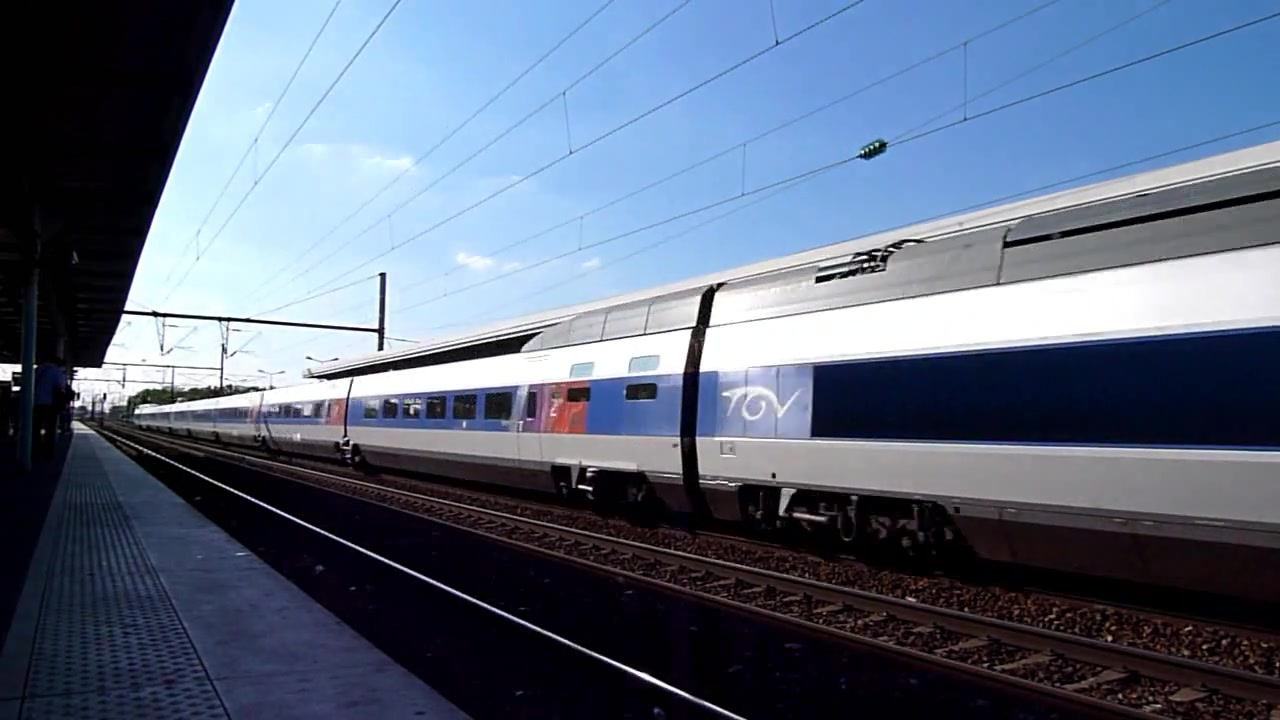train: (130, 138, 1280, 563)
